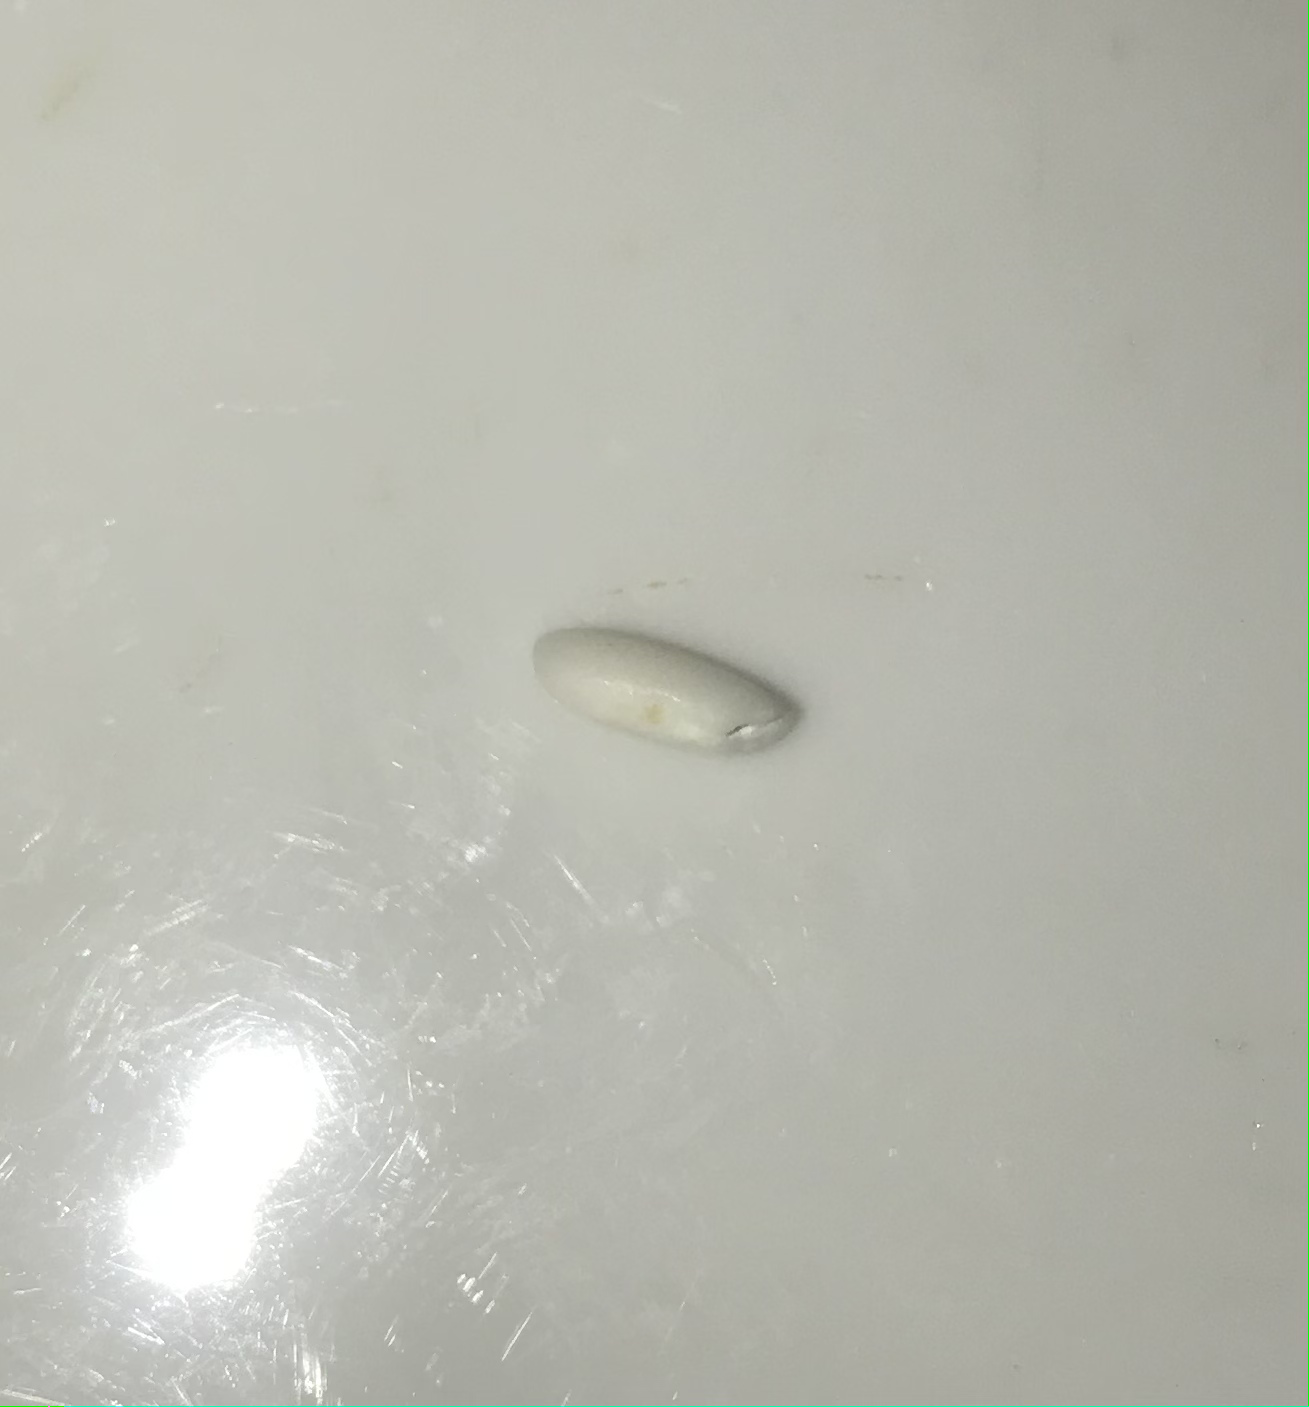Gao Nep Sap: (479, 576, 846, 779)
